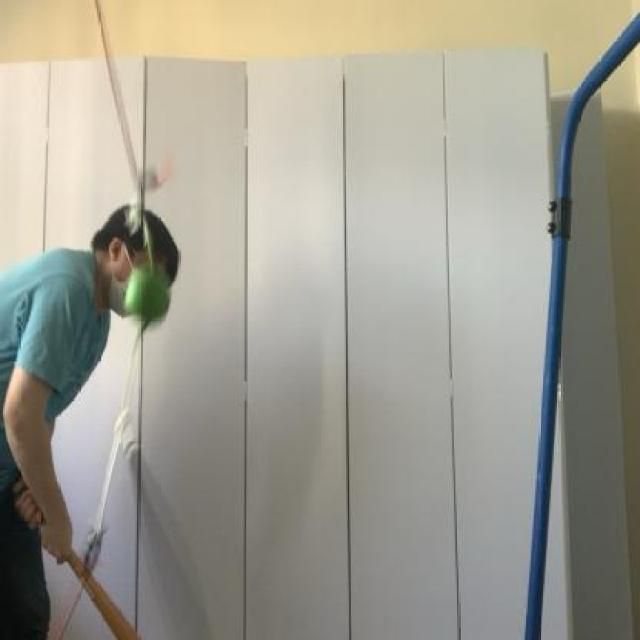baseball: (120, 256, 174, 338)
